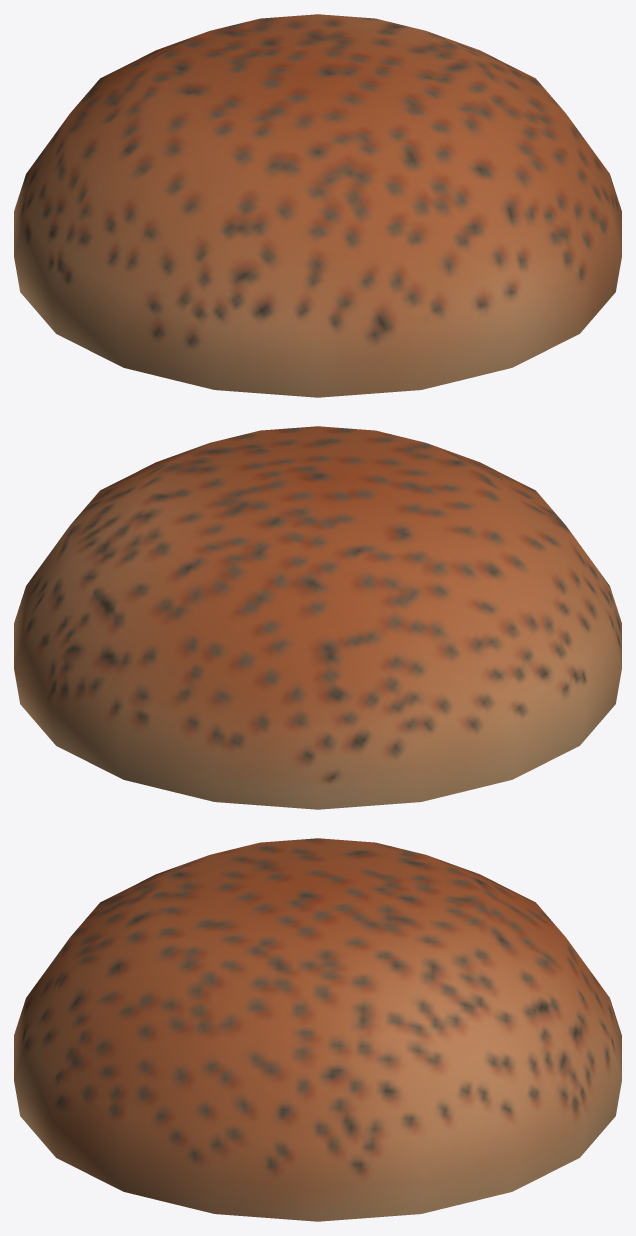
File: breadtop_poppy.FBX
The picture shows the model from 3 angles, top to bottom: view 1: azimuth 30°, elevation 25°; view 2: azimuth 150°, elevation 25°; view 3: azimuth 270°, elevation 25°; orthographic projection.
Visible parts, largest first — view 1: breadtop_poppy; view 2: breadtop_poppy; view 3: breadtop_poppy.
Boxes of the visible parts, box(x1,y1,x2,y2) form: breadtop_poppy: box(14, 14, 621, 397); breadtop_poppy: box(14, 426, 621, 809); breadtop_poppy: box(14, 838, 621, 1221).
Bounding box in the file's own units: 20.41 × 7.31 × 20.1.
